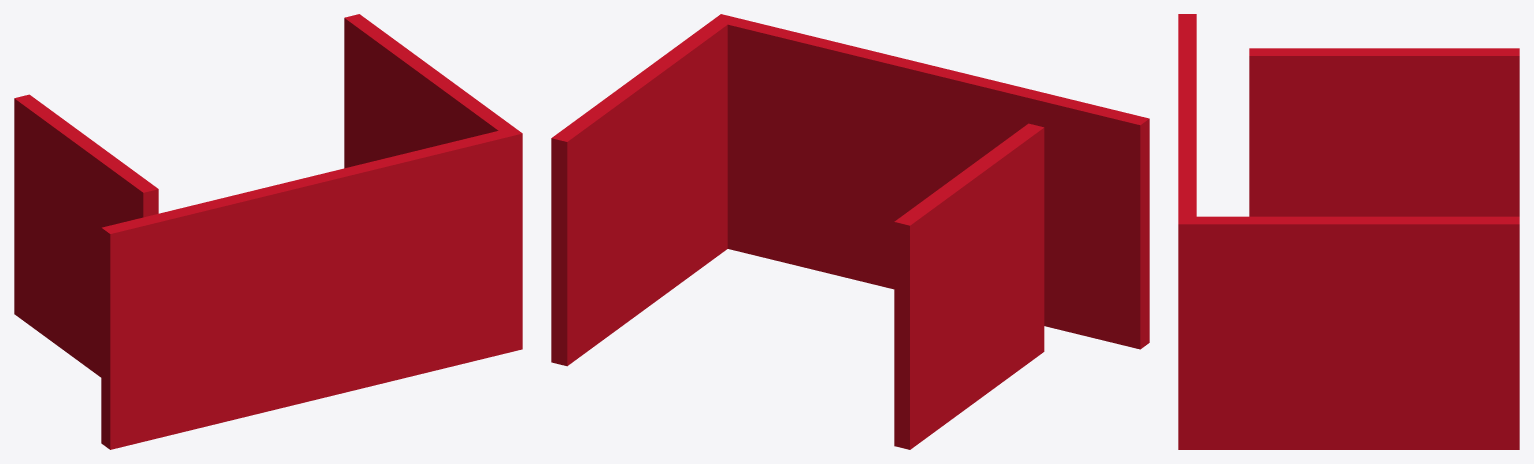
File: tkts-support.glb
3 views of the same model, side by side, from view 1: azimuth 30°, elevation 25°; view 2: azimuth 150°, elevation 25°; view 3: azimuth 270°, elevation 25° (orthographic). The views are drawn at different scales.
Parts seen in each view (by area): view 1: Estimated_lower_apron_no_cabinet_interiors; view 2: Estimated_lower_apron_no_cabinet_interiors; view 3: Estimated_lower_apron_no_cabinet_interiors.
Part boxes in pixels (<box>): Estimated_lower_apron_no_cabinet_interiors: <box>14,14,522,449</box>; Estimated_lower_apron_no_cabinet_interiors: <box>551,14,1149,449</box>; Estimated_lower_apron_no_cabinet_interiors: <box>1178,14,1519,449</box>.
Size of the model in its own units: 1.4 by 0.7 by 0.96.
